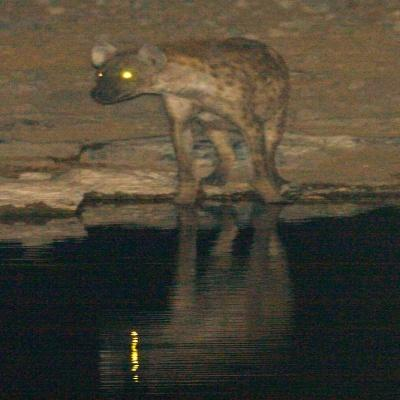hyenas: (46, 11, 303, 219)
